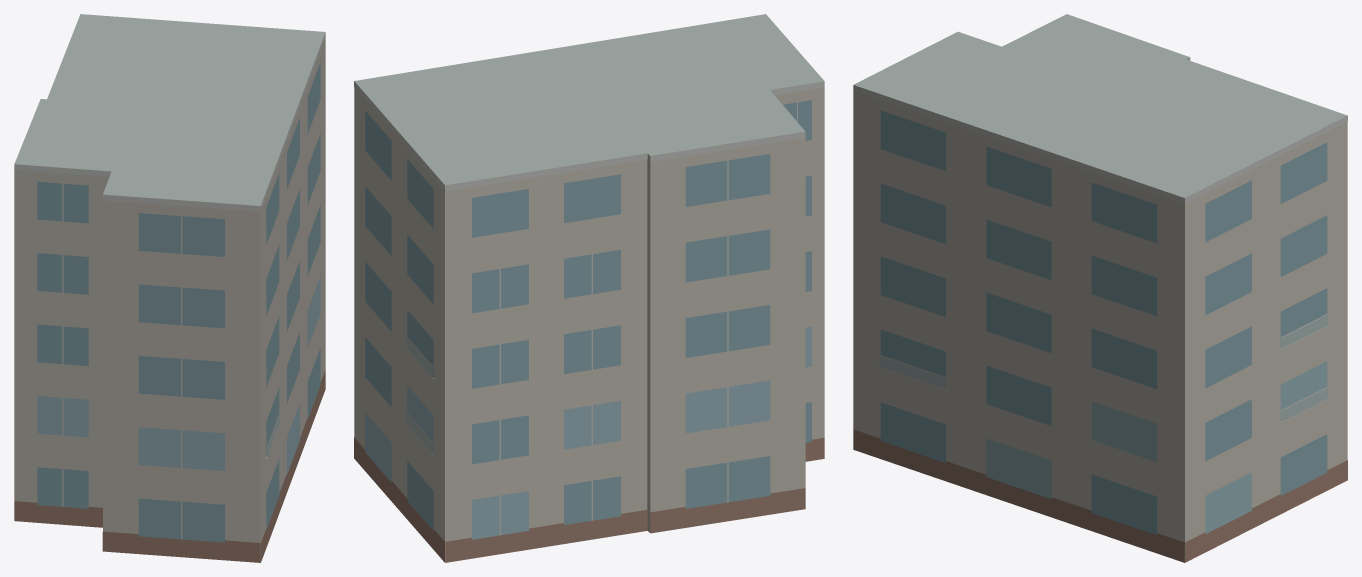
Rendered from survey-upis-32855233.glb.
The picture shows the model from 3 angles, left to right: view 1: azimuth 30°, elevation 25°; view 2: azimuth 150°, elevation 25°; view 3: azimuth 270°, elevation 25°; orthographic projection. The views are drawn at different scales.
Visible parts, largest first — view 1: survey-upis-32855233.tmp; view 2: survey-upis-32855233.tmp; view 3: survey-upis-32855233.tmp.
Boxes of the visible parts, x1,y1,x2,y2 form: survey-upis-32855233.tmp: (14,14,325,562); survey-upis-32855233.tmp: (354,14,824,562); survey-upis-32855233.tmp: (853,14,1347,562).
Size of the model in its own units: 16.02 by 14.8 by 18.19.
